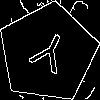Y: (23, 28, 73, 84)
